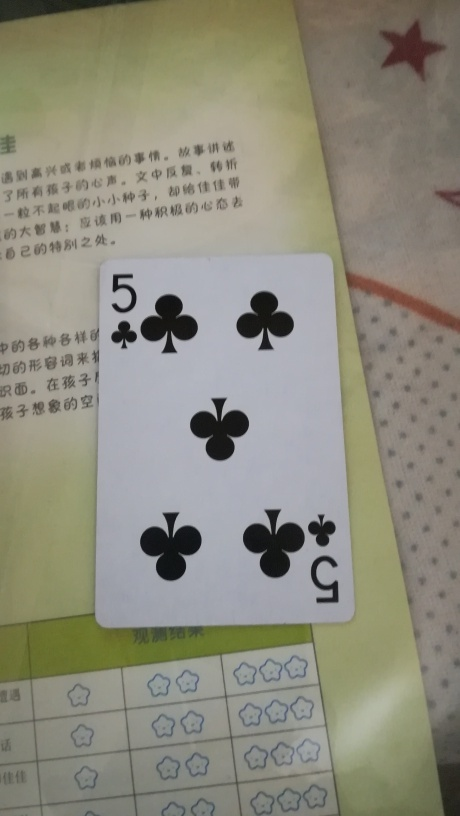mh 5: (89, 256, 353, 625)
